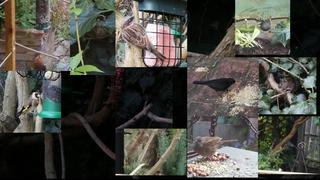blackbird: (192, 77, 239, 99)
dunnock: (193, 136, 238, 162)
goldfinch: (16, 91, 41, 118)
mouse: (278, 77, 296, 95)
sparrow: (120, 16, 167, 62), (257, 20, 270, 33)
